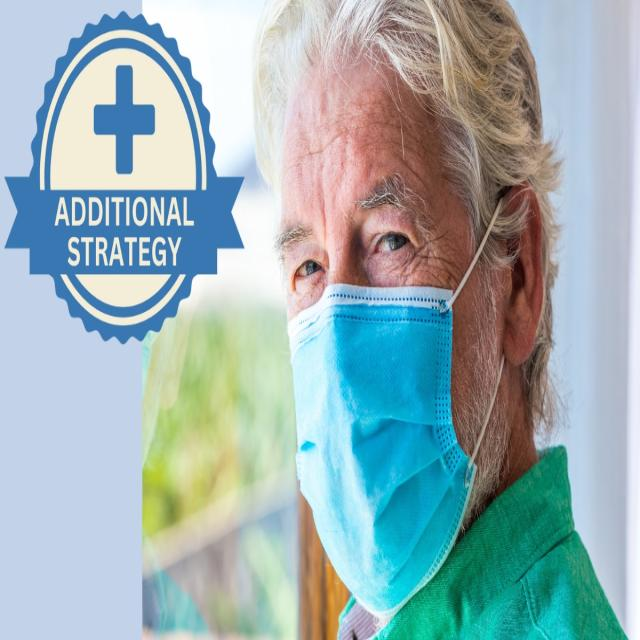1_mascarilla: (286, 192, 508, 620)
